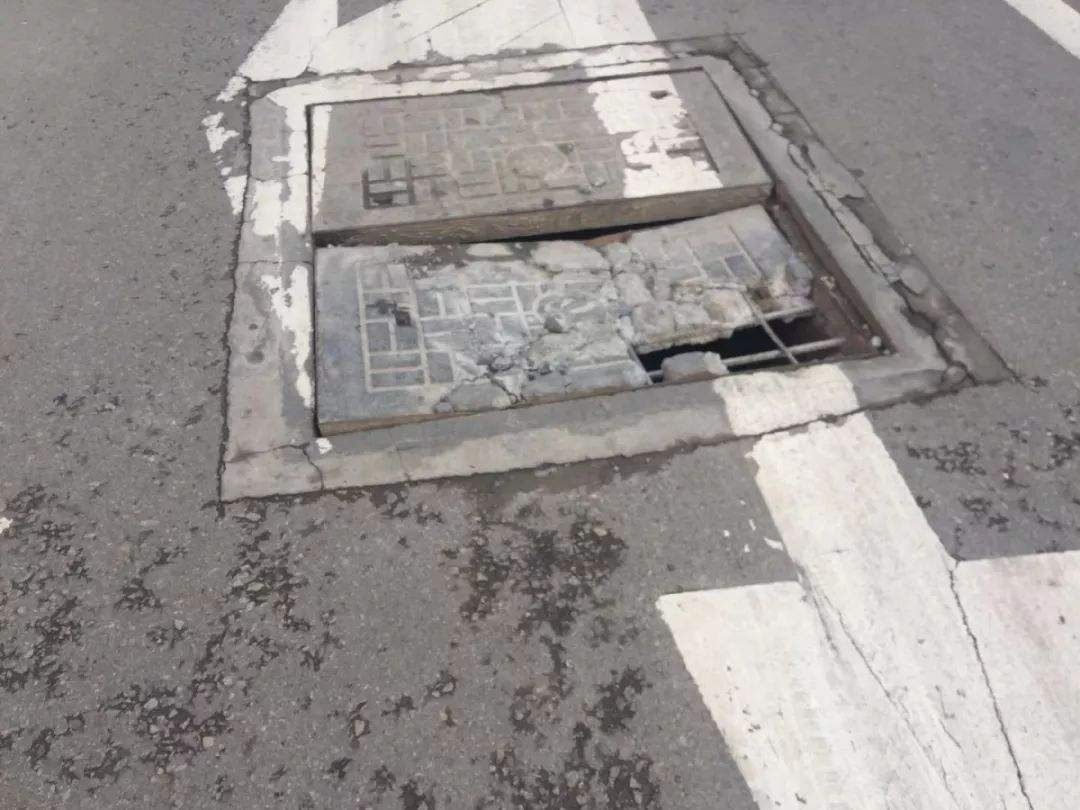broke: (282, 57, 958, 453)
